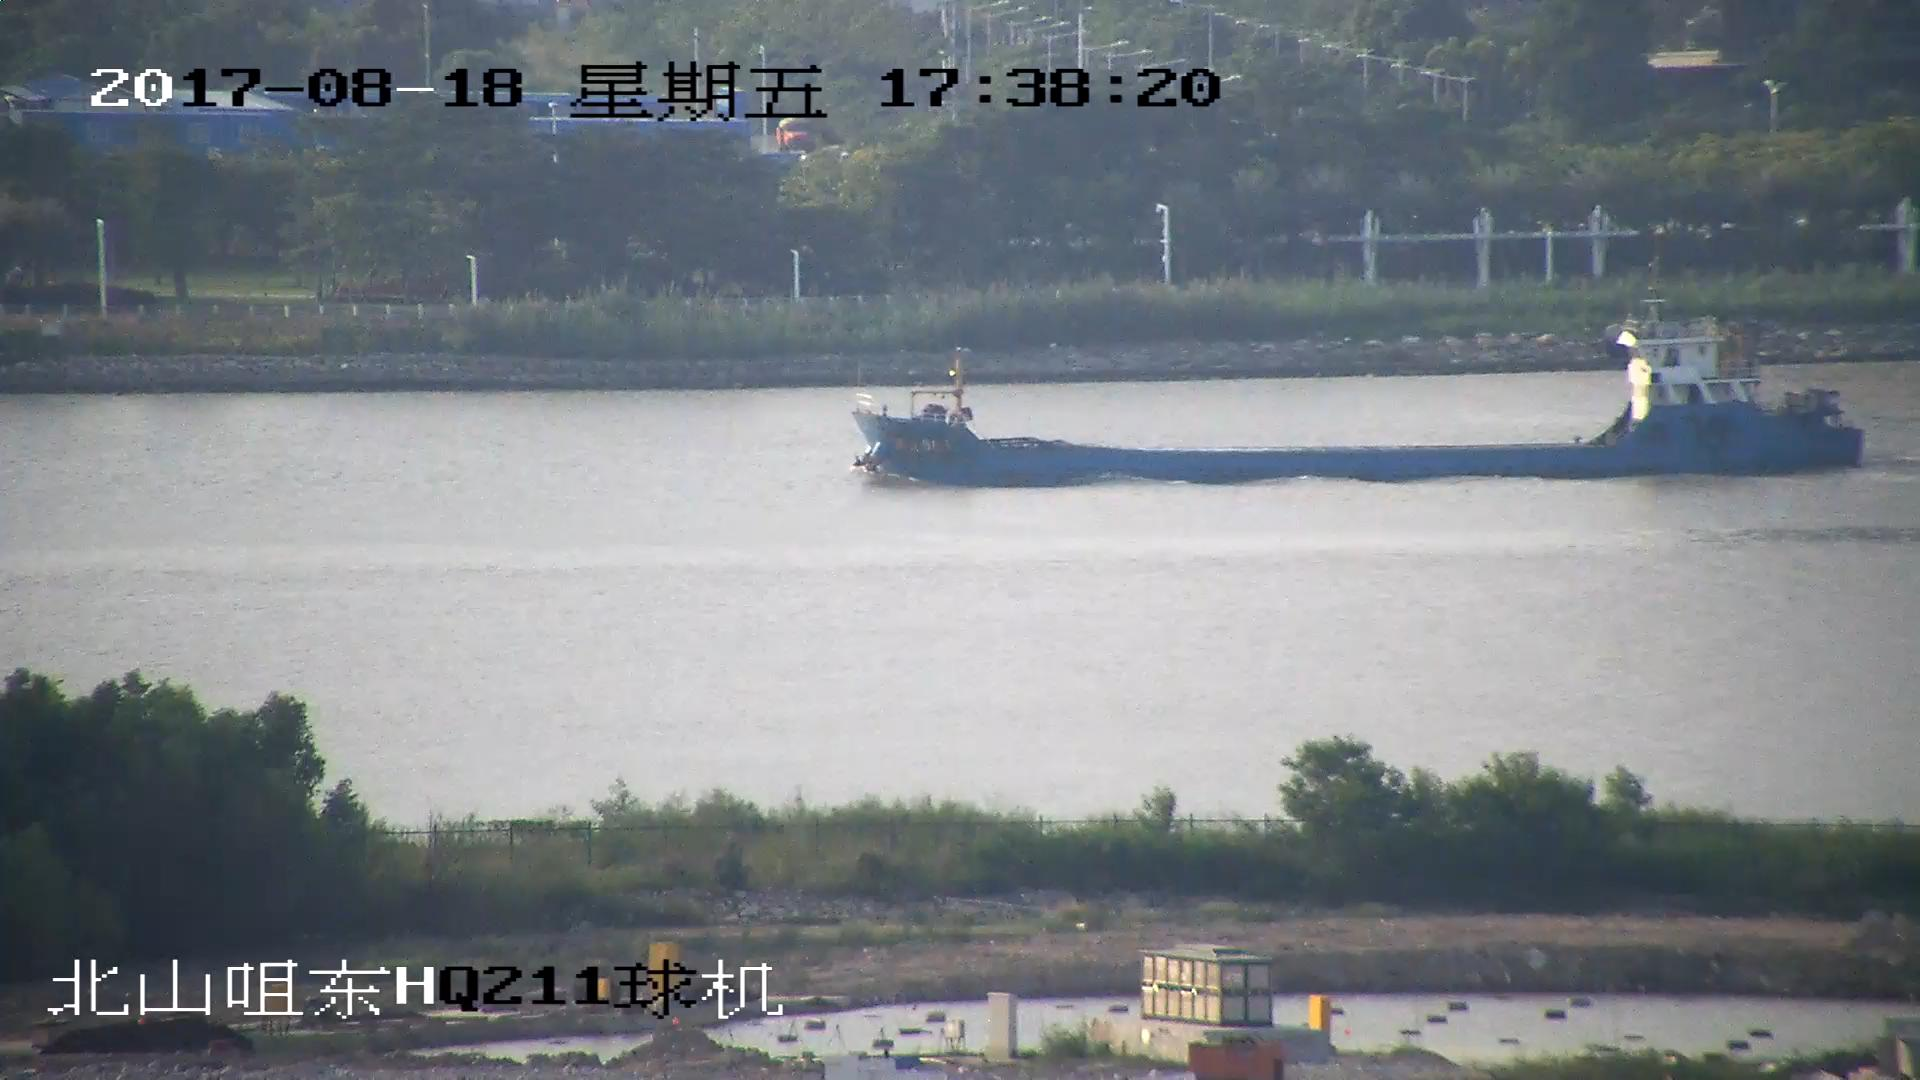general cargo ship: (852, 273, 1865, 489)
